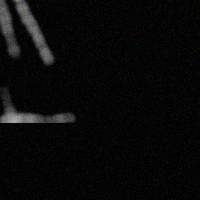chromosome: (9, 0, 54, 63), (0, 0, 21, 57), (0, 112, 75, 124), (0, 88, 17, 123)
